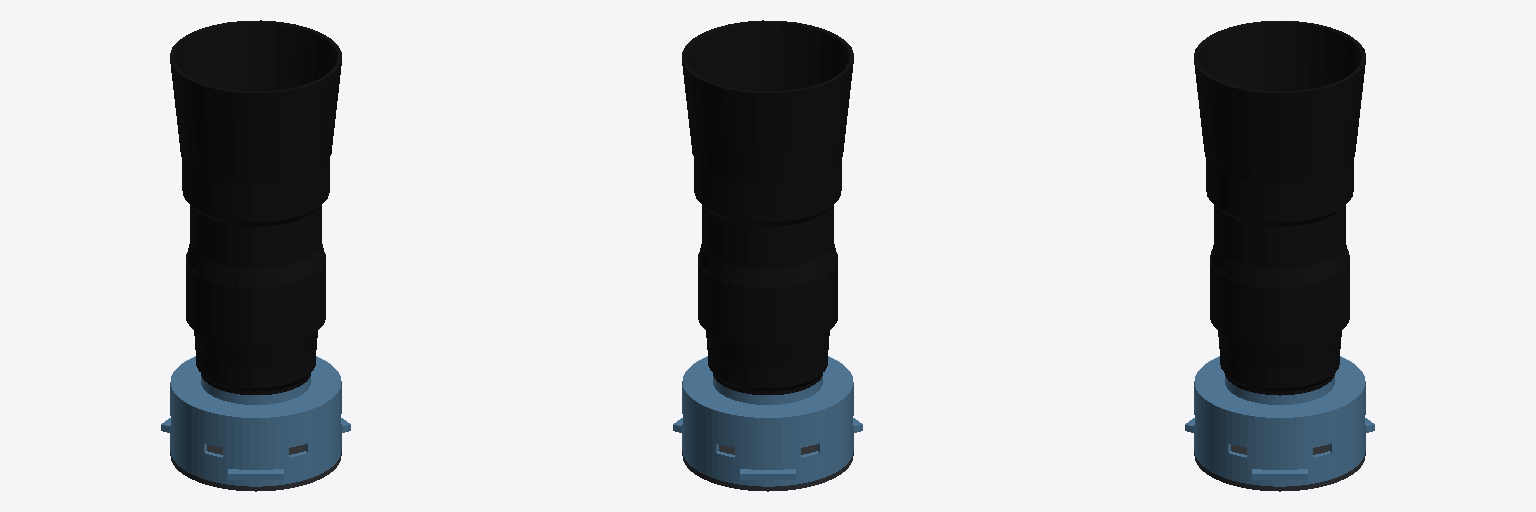
The robot description file, URDF, robot "redbank_iii_unit":
<?xml version="1.0"?>
<!-- Redbank III unit: Ø95x42 puck + Samyang 135/2, generated from redbank-iii/cad -->
<robot name="redbank_iii_unit">
  <link name="cap">
    <visual>
      <origin xyz="0 0 -0.003" rpy="0 0 0"/>
      <geometry><mesh filename="meshes/tube_rear_cap.stl" scale="0.001 0.001 0.001"/></geometry>
      <material name="m"><color rgba="0.22 0.23 0.25 1.0"/></material>
    </visual>
  </link>
  <link name="drum">
    <visual>
      <origin xyz="0 0 0.042" rpy="-1.5707963 0 0"/>
      <geometry><mesh filename="meshes/tube_body.stl" scale="0.001 0.001 0.001"/></geometry>
      <material name="m"><color rgba="0.35 0.52 0.65 1.0"/></material>
    </visual>
  </link>
  <link name="lens">
    <visual>
      <origin xyz="0 0 0.042" rpy="-1.5707963 0 0"/>
      <geometry><mesh filename="meshes/lens.stl" scale="0.001 0.001 0.001"/></geometry>
      <material name="m"><color rgba="0.10 0.10 0.11 1.0"/></material>
    </visual>
  </link>
  <joint name="bayonet_twist" type="revolute">
    <parent link="cap"/><child link="drum"/>
    <origin xyz="0 0 0" rpy="0 0 0"/>
    <axis xyz="0 0 1"/>
    <limit lower="-0.6109" upper="0.6109" effort="10" velocity="1"/>
  </joint>
  <joint name="focus_ring" type="continuous">
    <parent link="drum"/><child link="lens"/>
    <origin xyz="0 0 0" rpy="0 0 0"/>
    <axis xyz="0 0 1"/>
  </joint>
</robot>

--- What the picture shows (computed from the rendered views, not written in the file) ---
3 views of the same robot in one strip: view 1: azimuth 30°, elevation 25°; view 2: azimuth 150°, elevation 25°; view 3: azimuth 270°, elevation 25° (orthographic).
Model redbank_iii_unit with 3 links and 2 joints (1 revolute, 1 continuous), rooted at cap, posed all joints at 0.
Links seen in each view (by area): view 1: lens, drum, cap; view 2: lens, drum, cap; view 3: lens, drum, cap.
Boxes of the visible links, x1=… form: lens: x1=170, y1=20, x2=341, y2=394; drum: x1=161, y1=356, x2=350, y2=486; cap: x1=170, y1=444, x2=341, y2=491; lens: x1=682, y1=20, x2=853, y2=394; drum: x1=673, y1=356, x2=862, y2=486; cap: x1=682, y1=444, x2=853, y2=491; lens: x1=1194, y1=21, x2=1365, y2=395; drum: x1=1185, y1=356, x2=1374, y2=486; cap: x1=1194, y1=444, x2=1365, y2=491.
Bounding box of the posed robot: 0.1 × 0.1054 × 0.244 m (x, y, z).
3 mesh visuals loaded from 3 distinct referenced files (3 binary STL).
